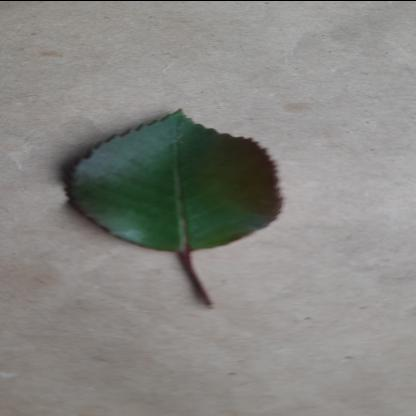normal: (62, 104, 286, 252)
